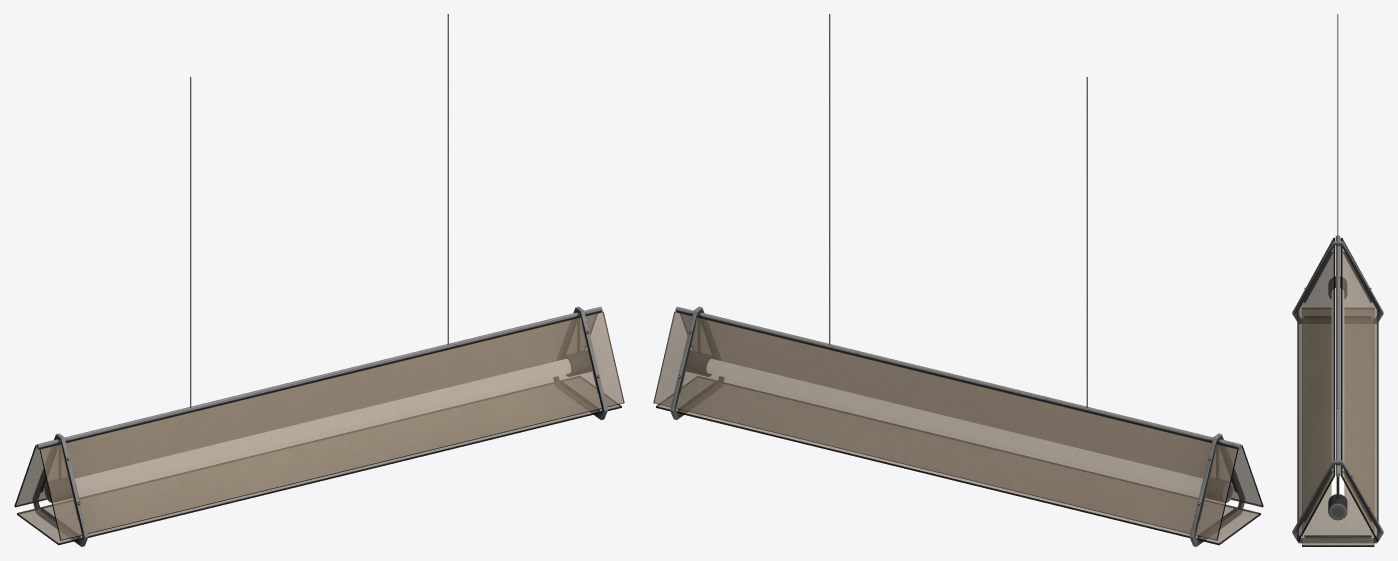
File: modern_triangle_ceiling_lamp.glb
The picture shows the model from 3 angles, left to right: view 1: azimuth 30°, elevation 25°; view 2: azimuth 150°, elevation 25°; view 3: azimuth 270°, elevation 25°; orthographic projection. The views are drawn at different scales.
Visible parts, largest first — view 1: Circle; view 2: Circle; view 3: Circle.
Boxes of the visible parts, x1,y1,x2,y2 form: Circle: [14, 14, 624, 546]; Circle: [653, 14, 1263, 546]; Circle: [1292, 14, 1383, 546].
Size of the model in its own units: 1.71 by 1.22 by 0.279.
4 materials, 3 textured.
